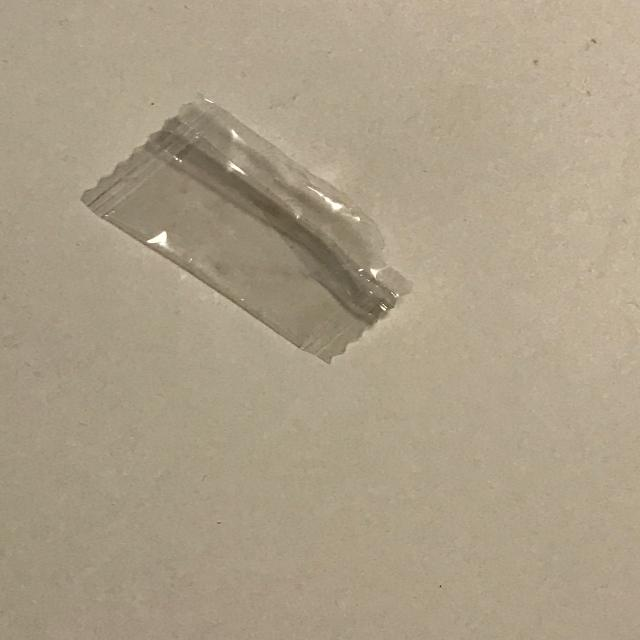trash: (79, 95, 414, 365)
